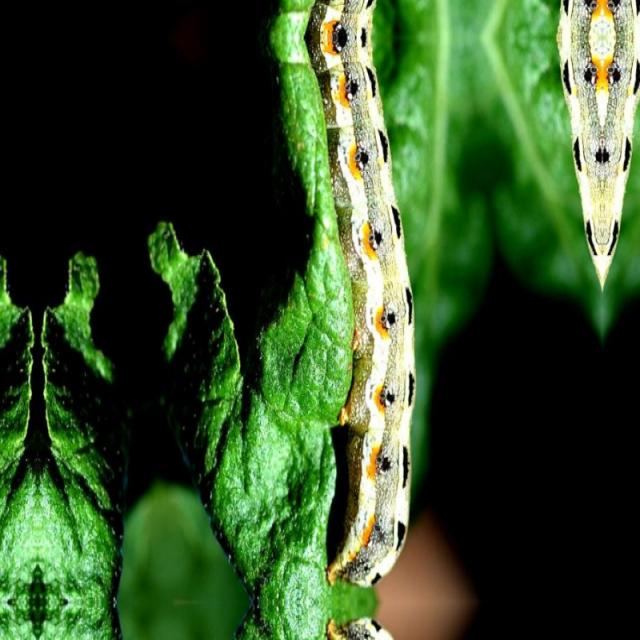Armyworm: (299, 1, 449, 597), (531, 1, 640, 321)
